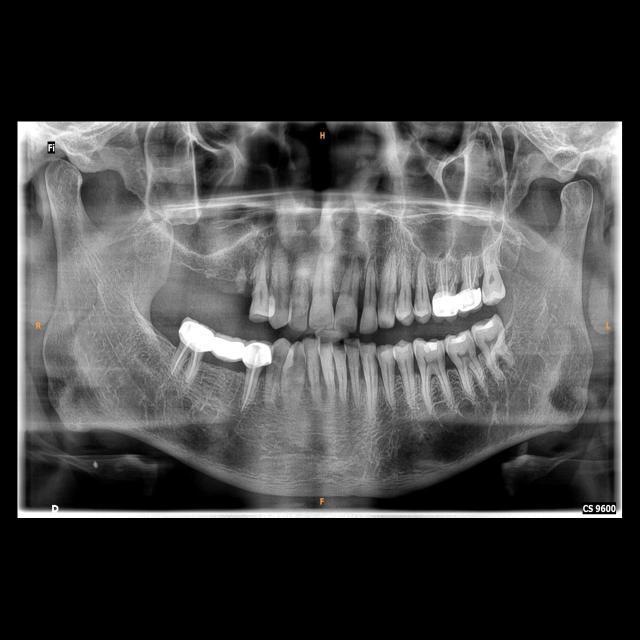kanal-tedavisi: (174, 351, 200, 383), (436, 255, 457, 291), (240, 368, 256, 408)
kaplama: (175, 318, 217, 354), (244, 340, 273, 369), (435, 291, 459, 322), (462, 250, 480, 289), (458, 284, 481, 312)
kopru: (198, 328, 253, 368)
